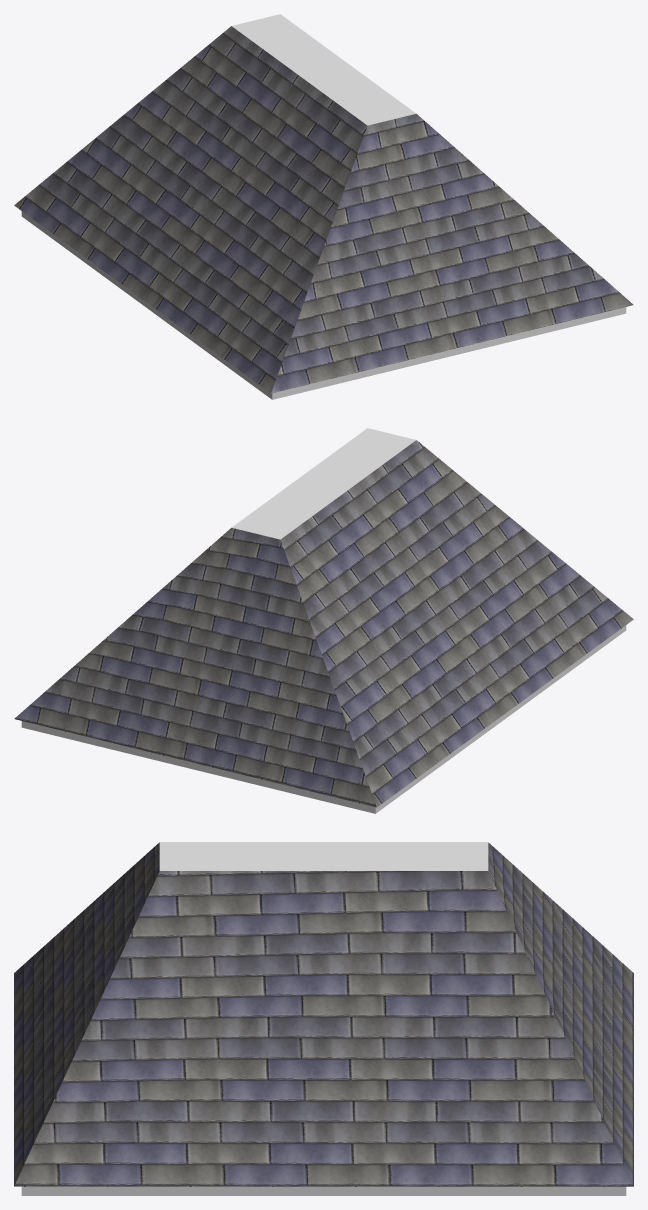
The model's file is roof1.fbx.
3 views of the same model, one above another, from view 1: azimuth 30°, elevation 25°; view 2: azimuth 150°, elevation 25°; view 3: azimuth 270°, elevation 25° (orthographic). The views are drawn at different scales.
Visible parts, largest first — view 1: pCube1; view 2: pCube1; view 3: pCube1.
Boxes of the visible parts, bbox=[...] form: pCube1: bbox=[14, 14, 633, 399]; pCube1: bbox=[14, 428, 633, 813]; pCube1: bbox=[14, 842, 633, 1195].
Bounding box in the file's own units: 6.61 × 3.39 × 8.1.
3 materials, 1 textured.
